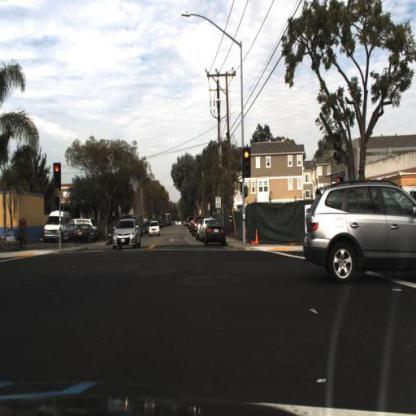car: (305, 179, 416, 288), (113, 216, 141, 250), (43, 212, 72, 244), (202, 214, 228, 247), (203, 219, 227, 246), (71, 219, 96, 244), (74, 212, 95, 229), (148, 220, 163, 236)
pedestrian: (17, 214, 29, 255)
trafficLight: (244, 147, 254, 177)
trafficLight-Red: (54, 161, 63, 188)
